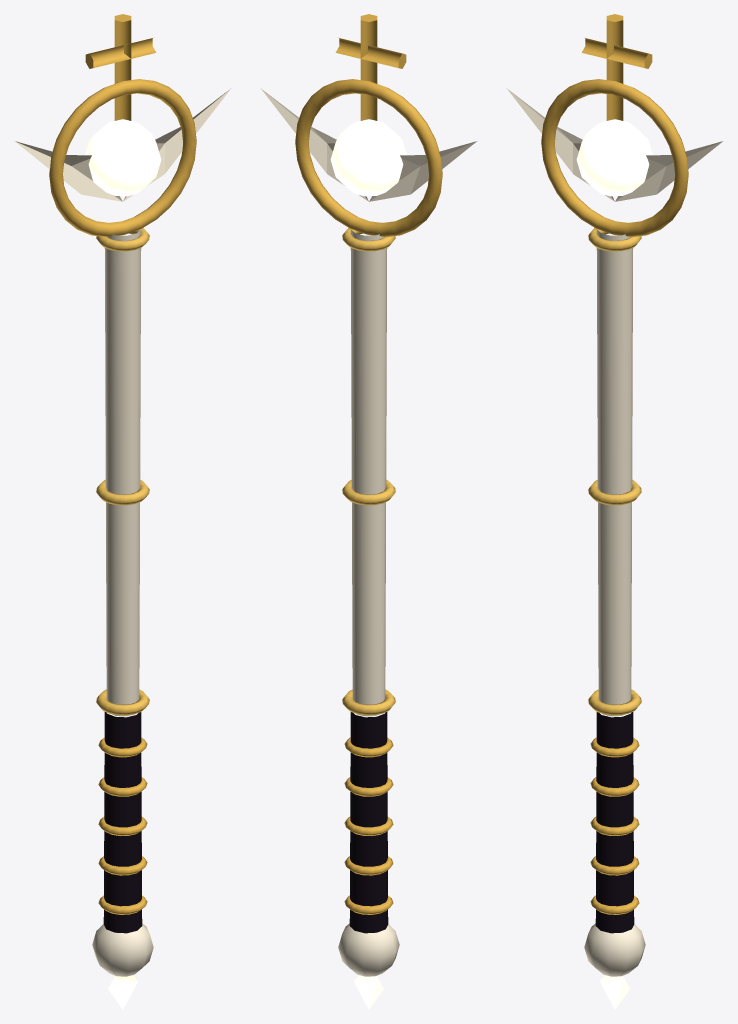
File: scepter_7.glb
3 renders of one model, left to right at view 1: azimuth 30°, elevation 25°; view 2: azimuth 150°, elevation 25°; view 3: azimuth 330°, elevation 25°, orthographic.
Parts seen in each view (by area): view 1: scepter_7; view 2: scepter_7; view 3: scepter_7.
Part boxes in pixels (left/top/right/bottom): scepter_7: left=15, top=14, right=231, bottom=1009; scepter_7: left=260, top=14, right=476, bottom=1009; scepter_7: left=506, top=14, right=722, bottom=1009.
Bounding box in the file's own units: 0.26 × 1.13 × 0.0761.
